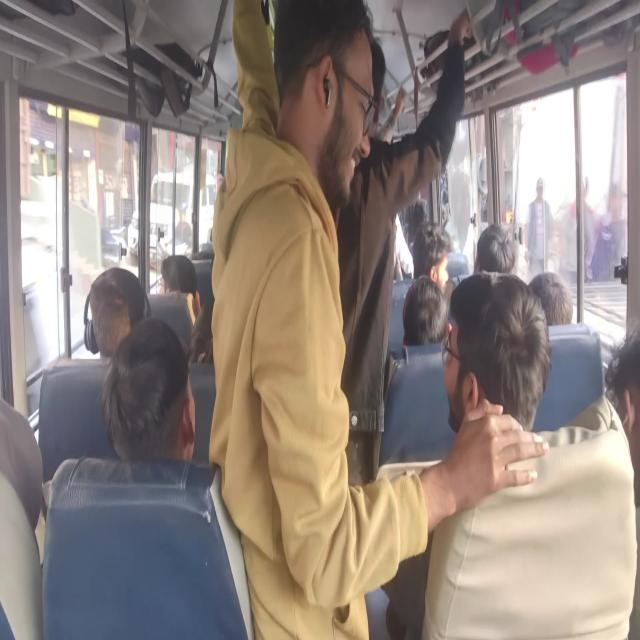person: (208, 1, 551, 638), (333, 6, 473, 635), (420, 270, 638, 638), (42, 316, 252, 638), (99, 316, 196, 463), (84, 266, 151, 359), (411, 221, 455, 311), (523, 177, 556, 279), (402, 274, 448, 346), (527, 271, 573, 326), (474, 222, 516, 276), (160, 254, 198, 297)
